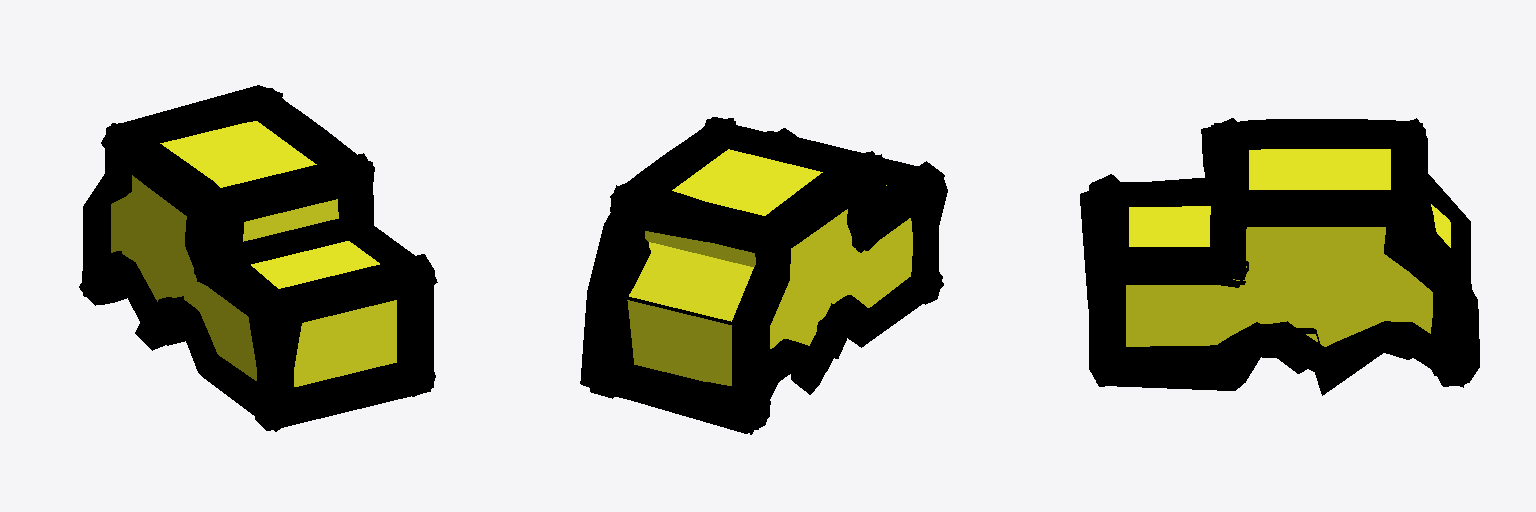
File: CarExportVertex.obj
The picture shows the model from 3 angles: view 1: azimuth 30°, elevation 25°; view 2: azimuth 150°, elevation 25°; view 3: azimuth 270°, elevation 25°; orthographic projection.
Parts seen in each view (by area): view 1: DogShitOutline CarGroup, CarGroup Car; view 2: DogShitOutline CarGroup, CarGroup Car; view 3: DogShitOutline CarGroup, CarGroup Car.
Boxes of the visible parts, x1,y1,x2,y2 form: DogShitOutline CarGroup: [79, 85, 437, 431]; CarGroup Car: [111, 121, 396, 386]; DogShitOutline CarGroup: [580, 117, 947, 434]; CarGroup Car: [627, 149, 912, 385]; DogShitOutline CarGroup: [1080, 118, 1479, 395]; CarGroup Car: [1126, 149, 1450, 346].
Bounding box in the file's own units: 3.47 × 3.61 × 6.41.